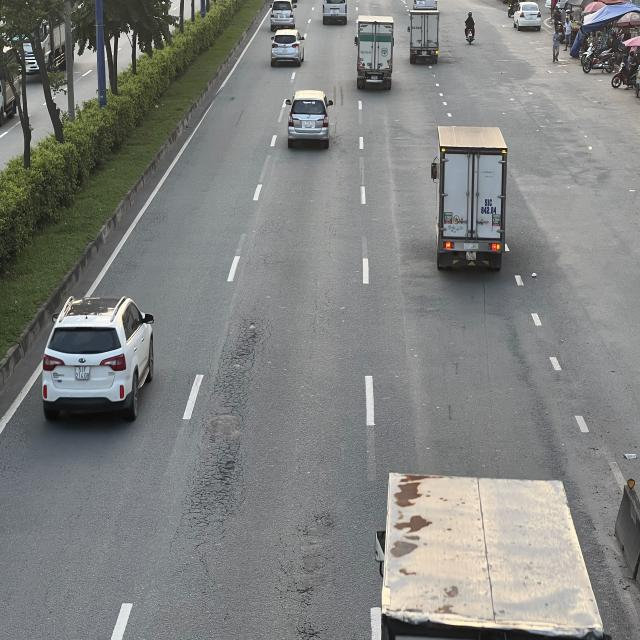car: (40, 296, 157, 424), (284, 90, 336, 146), (267, 30, 309, 66), (511, 2, 543, 32), (266, 1, 296, 27)
truck: (430, 125, 509, 271), (354, 14, 395, 86), (409, 5, 440, 66)
